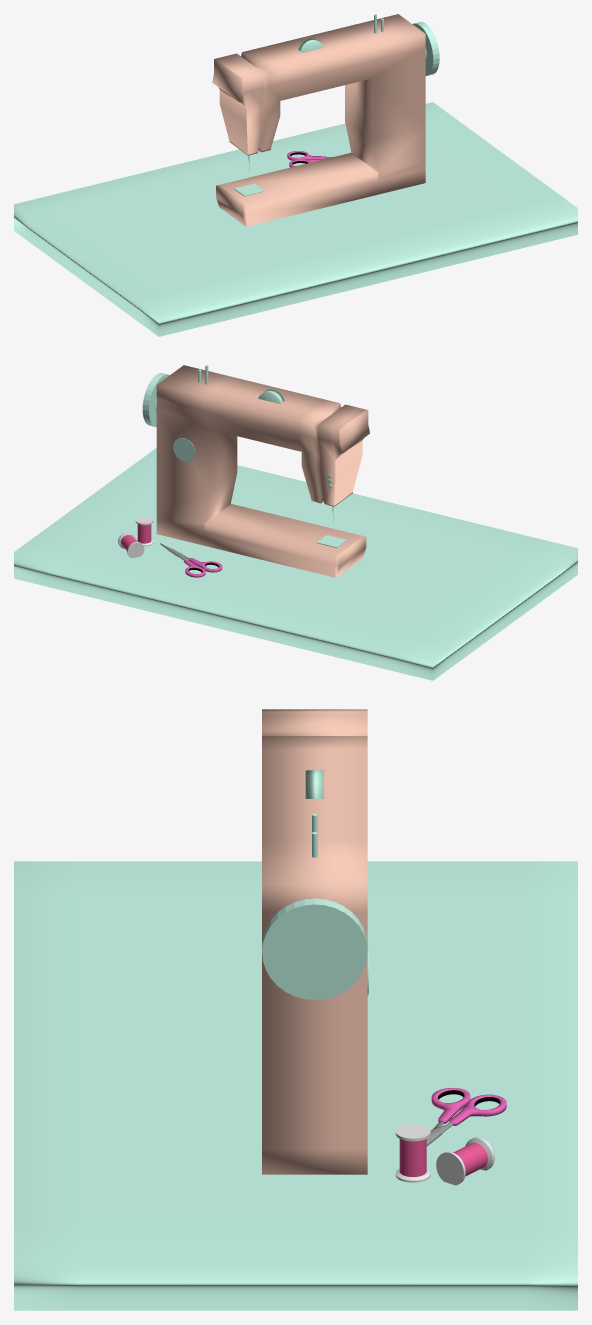
The model's file is sewingmachine1.glb.
The picture shows the model from 3 angles, top to bottom: view 1: azimuth 30°, elevation 25°; view 2: azimuth 150°, elevation 25°; view 3: azimuth 270°, elevation 25°; orthographic projection. The views are drawn at different scales.
Parts seen in each view (by area): view 1: Cube.002, Cube, Cylinder.012; view 2: Cube.002, Cube, Cylinder.012, Cylinder.014, Cylinder.013, Cylinder; view 3: Cube.002, Cube, Cylinder.012, Cylinder.014, Cylinder.013, scissors1, scissors2.
Boxes of the visible parts, <box> form: Cube.002: <box>14,102,577,336</box>; Cube: <box>212,14,425,226</box>; Cylinder.012: <box>412,22,439,75</box>; Cube.002: <box>14,448,577,680</box>; Cube: <box>156,365,369,577</box>; Cylinder.012: <box>142,373,169,427</box>; Cylinder.014: <box>118,532,144,558</box>; Cylinder.013: <box>135,516,153,546</box>; Cylinder: <box>173,438,195,461</box>; Cube.002: <box>14,861,577,1310</box>; Cube: <box>262,709,367,1174</box>; Cylinder.012: <box>262,898,367,999</box>; Cylinder.014: <box>436,1137,494,1185</box>; Cylinder.013: <box>395,1124,430,1182</box>; scissors1: <box>426,1094,506,1145</box>; scissors2: <box>426,1088,470,1146</box>.
Size of the model in its own units: 17.84 by 7.89 by 10.69.
